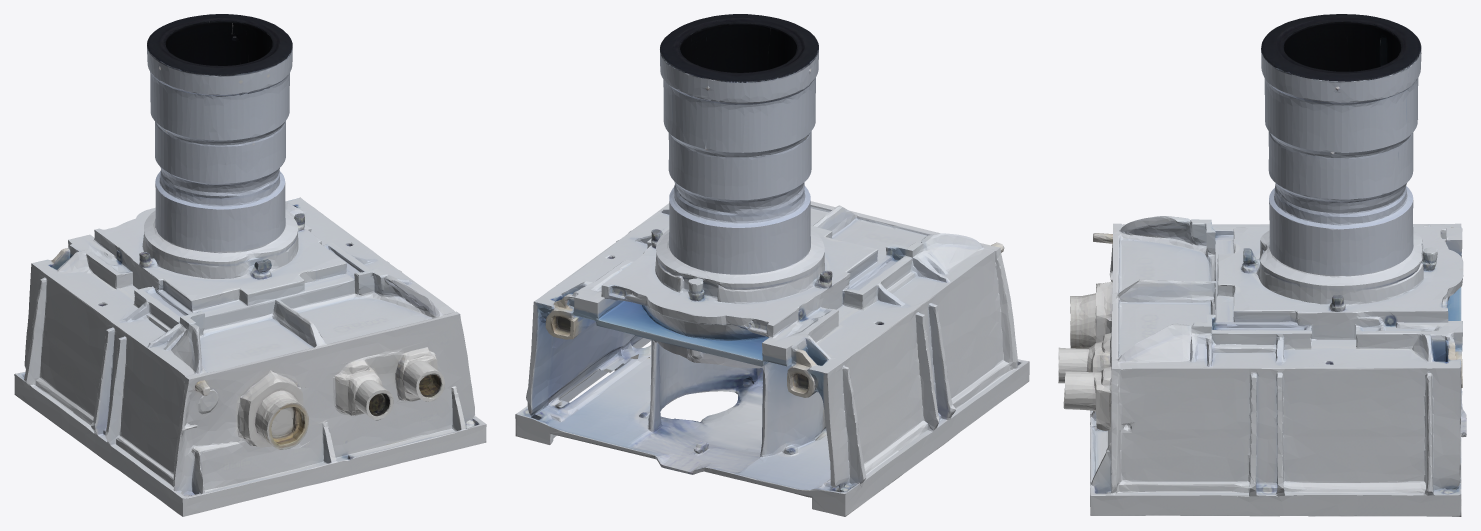
File: NavigationSystem.glb
The picture shows the model from 3 angles, left to right: view 1: azimuth 30°, elevation 25°; view 2: azimuth 150°, elevation 25°; view 3: azimuth 270°, elevation 25°; orthographic projection. The views are drawn at different scales.
Visible parts, largest first — view 1: world; view 2: world; view 3: world.
Boxes of the visible parts, <box> form: world: <box>14,14,486,516</box>; world: <box>515,14,1029,516</box>; world: <box>1058,14,1466,516</box>.
Size of the model in its own units: 0.9133 by 0.9955 by 0.9401.
1 material, 1 textured.
